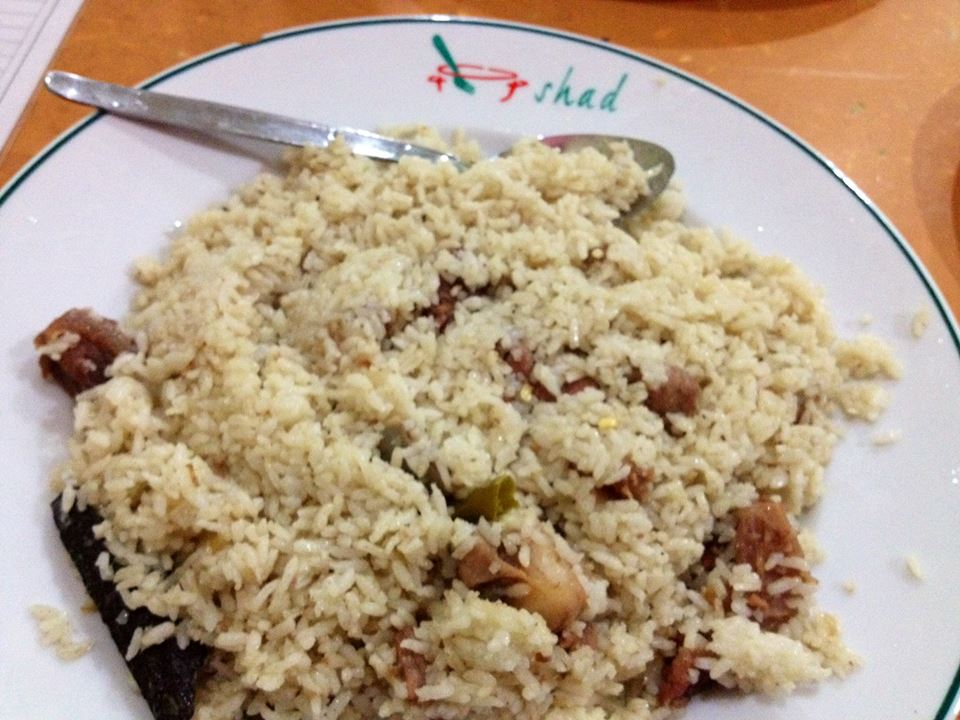tehari: (42, 140, 907, 720)
